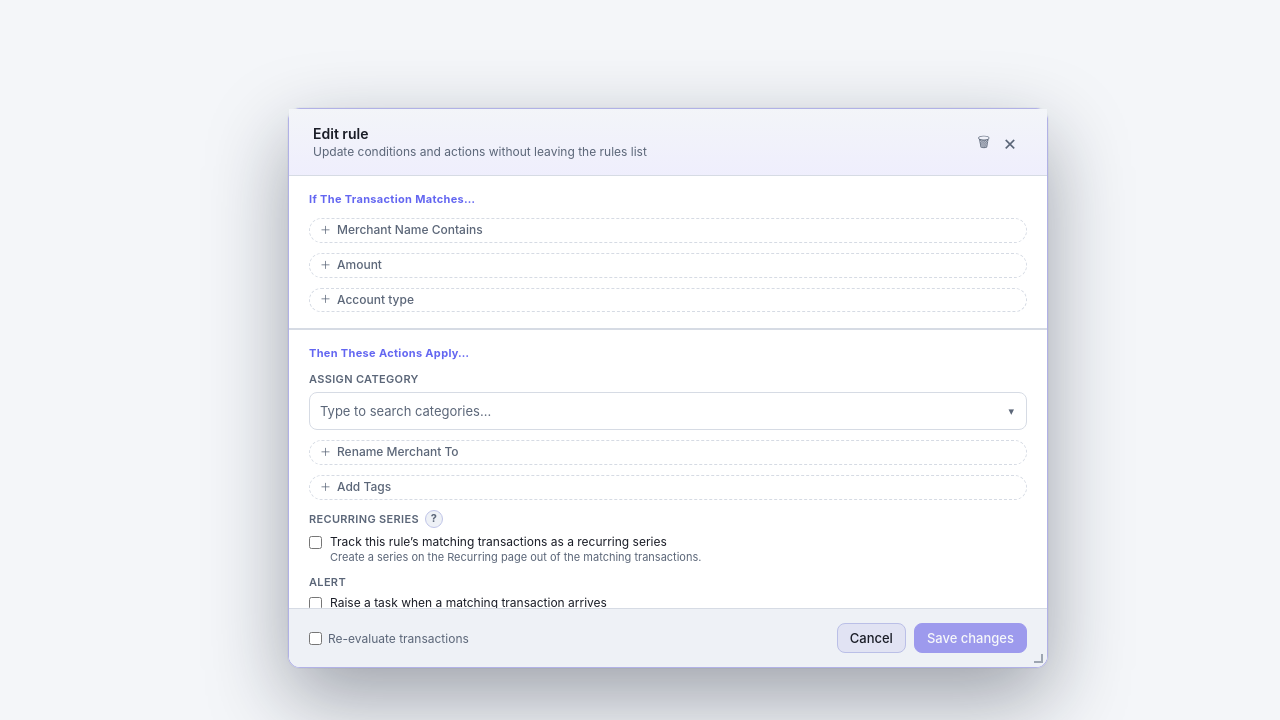
the rule editor header › abandons the delete without abandoning the edit
Step 1. Click the button named "Delete this rule" → [984, 142], box [970,131,997,153]
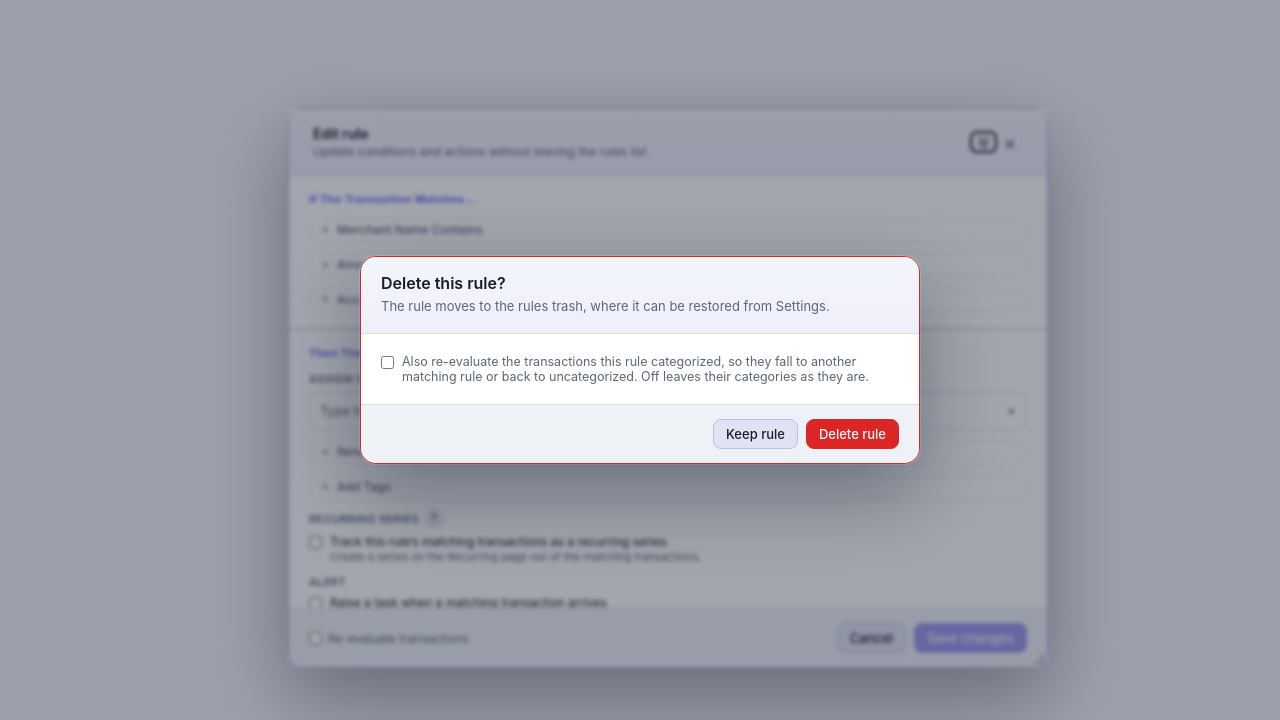
Step 2. Click the button "Keep rule" → [755, 434], box [713,419,798,449]
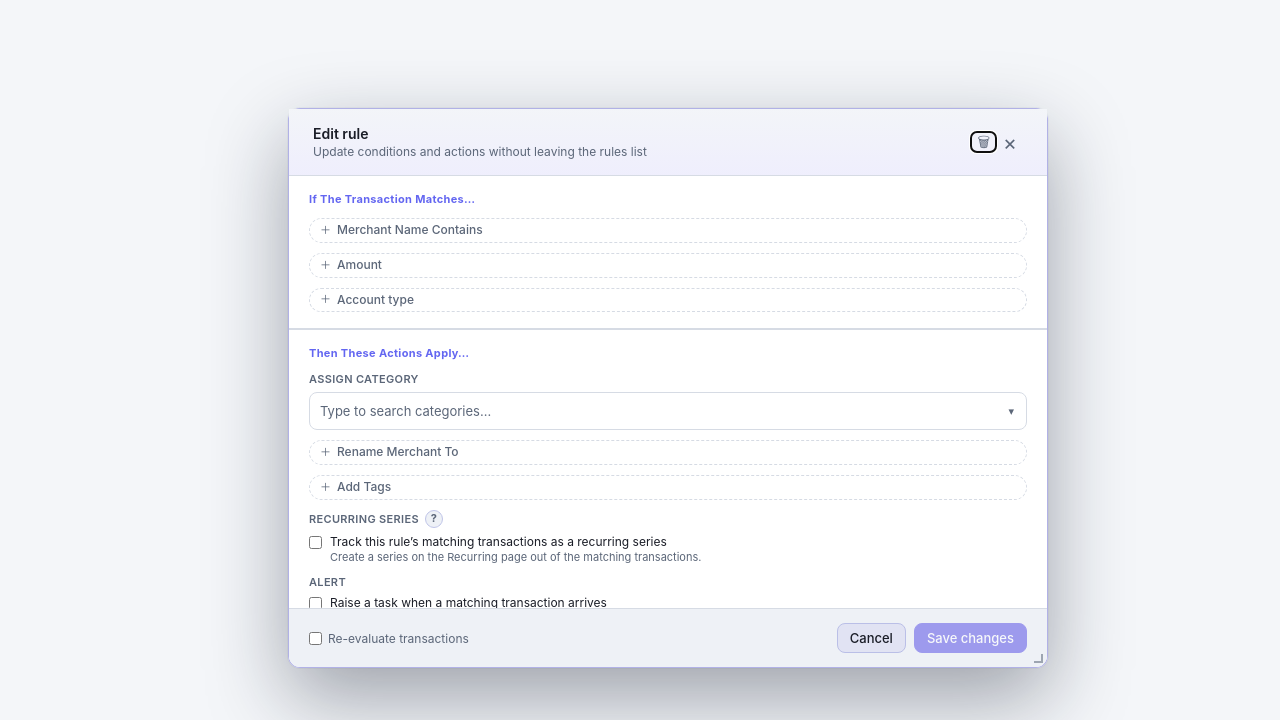
Check: the button "Delete rule" is gone
